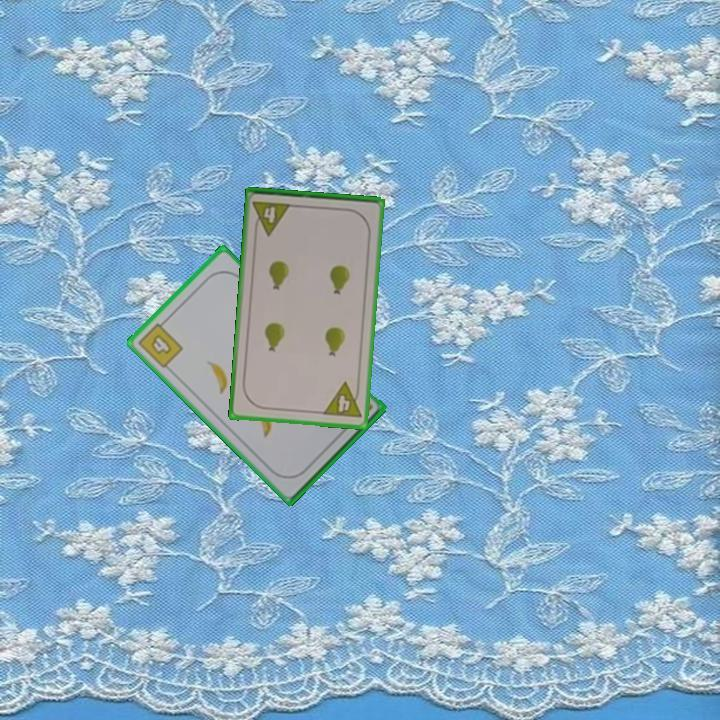4b: (134, 315, 186, 371)
4p: (319, 379, 364, 421), (249, 197, 294, 238)
